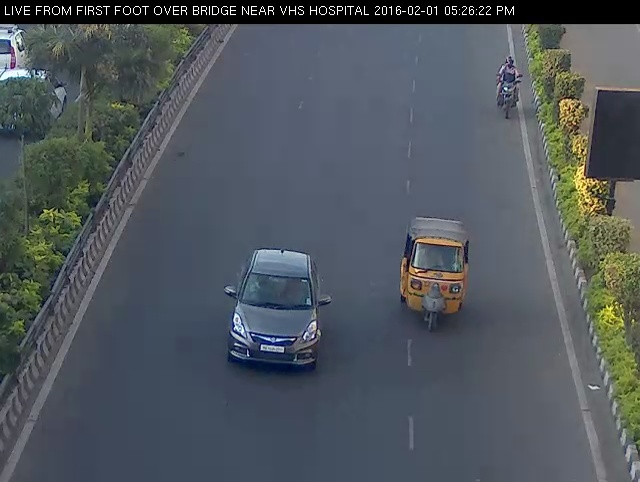Car: (217, 237, 335, 384), (385, 204, 483, 340)
Person: (493, 51, 525, 128)
